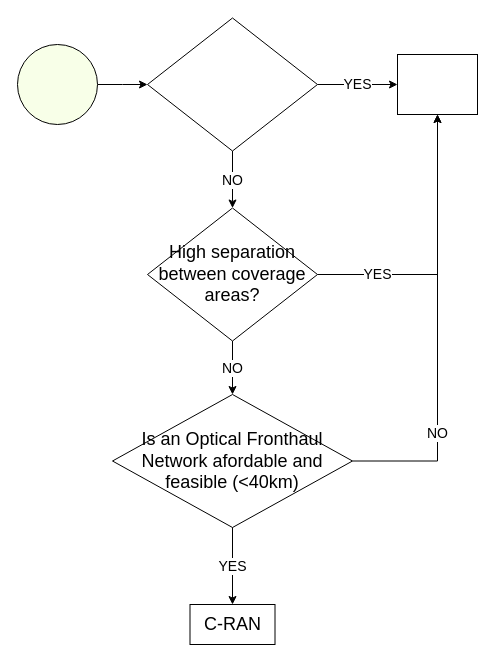
The diagram is 495 pixels wide and 662 high, and some of its shapes have lost their labels. The box of each missing label's shape, as (x1, y1, x2, y2) in pixels:
D-RAN: (396, 54, 478, 114)
Low number of coverage areas?: (146, 17, 318, 151)
